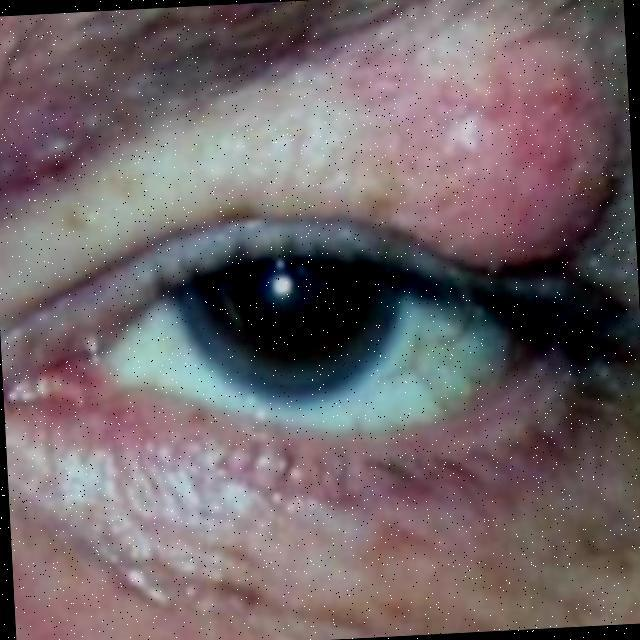Stye: (257, 13, 626, 259)
